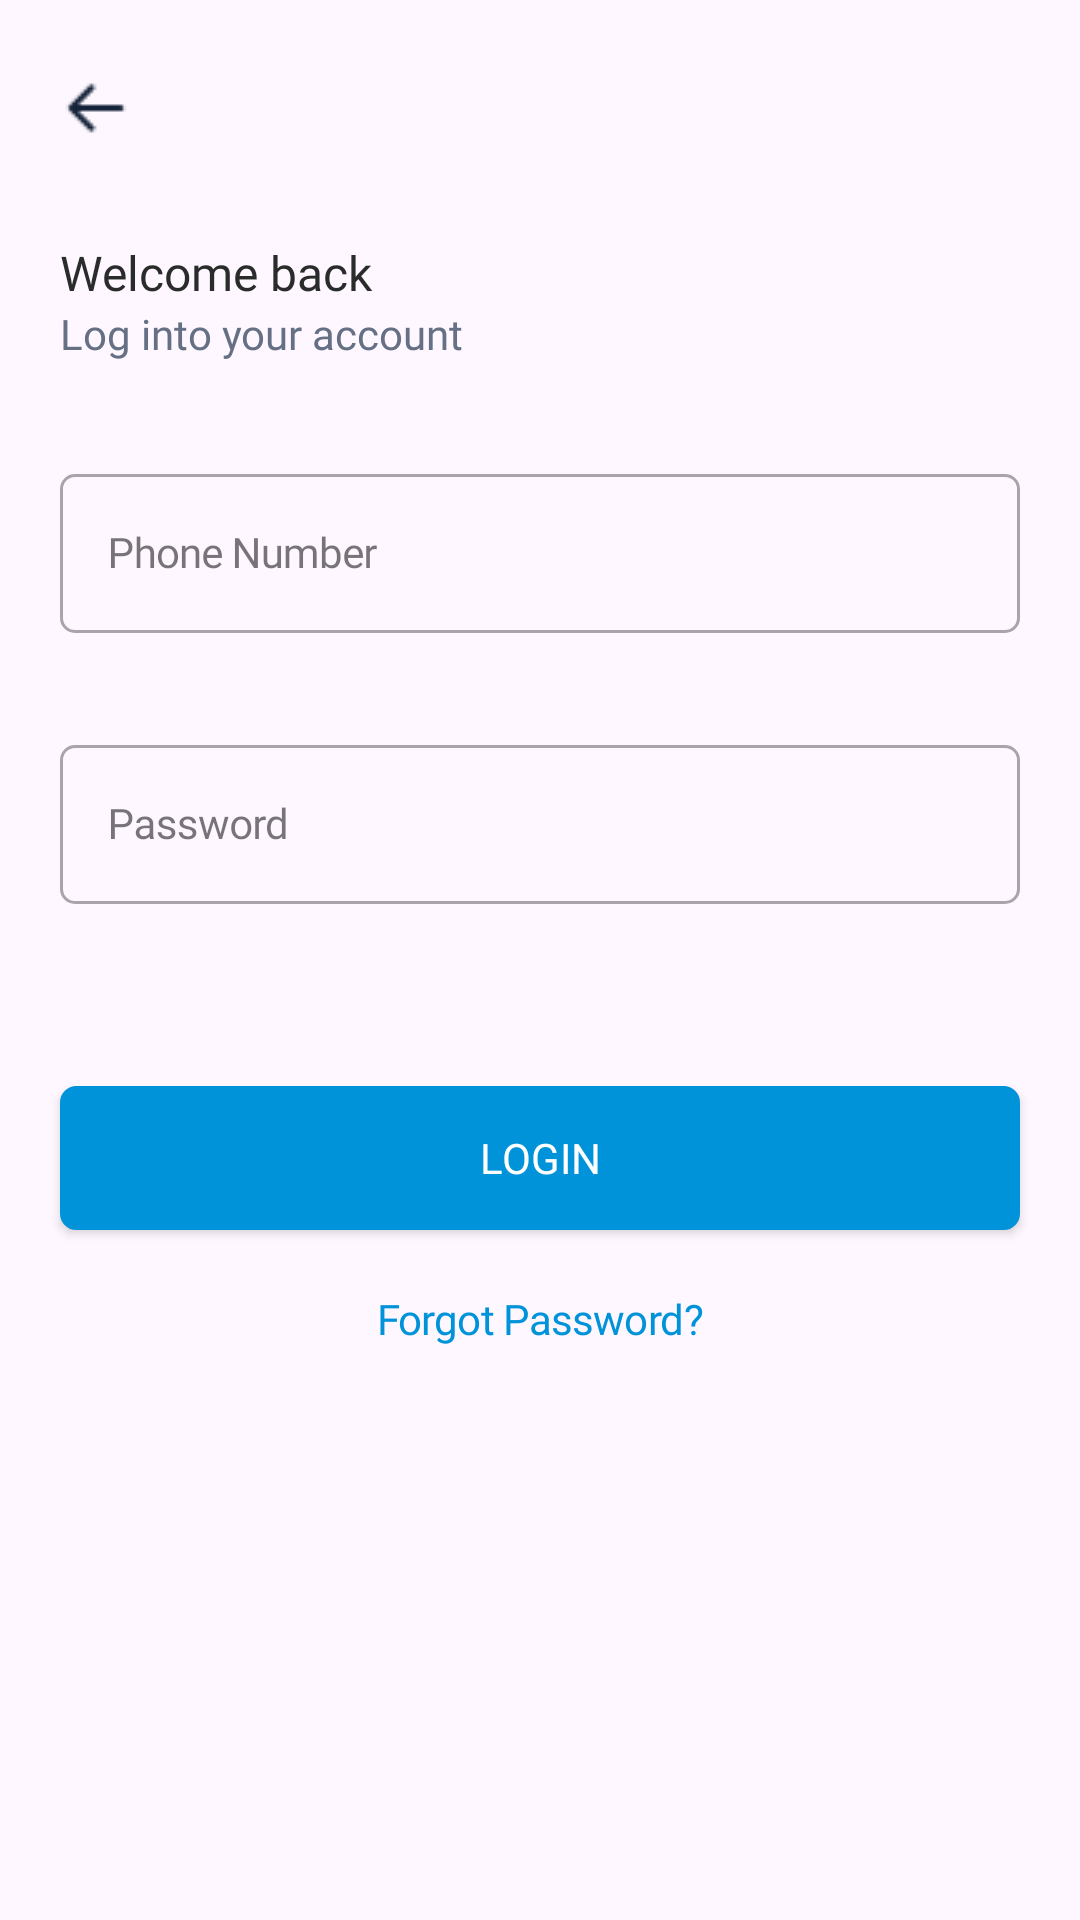

Named icons in this screenshot (1080w x 1920h) and their bounding boxes, rect(x1, y1, x2, y2):
arrowleft: rect(67, 83, 125, 133)
